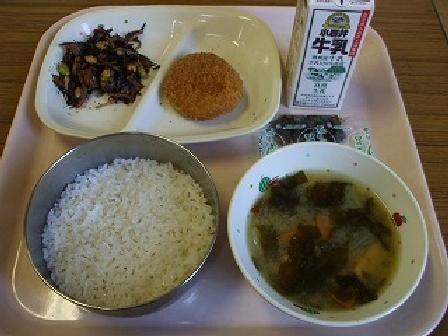Milk: (278, 0, 378, 112)
Rice: (33, 143, 217, 316)
Soups: (223, 157, 419, 324)
cutlet: (159, 46, 259, 130)
salad with sauce: (57, 29, 157, 109)
